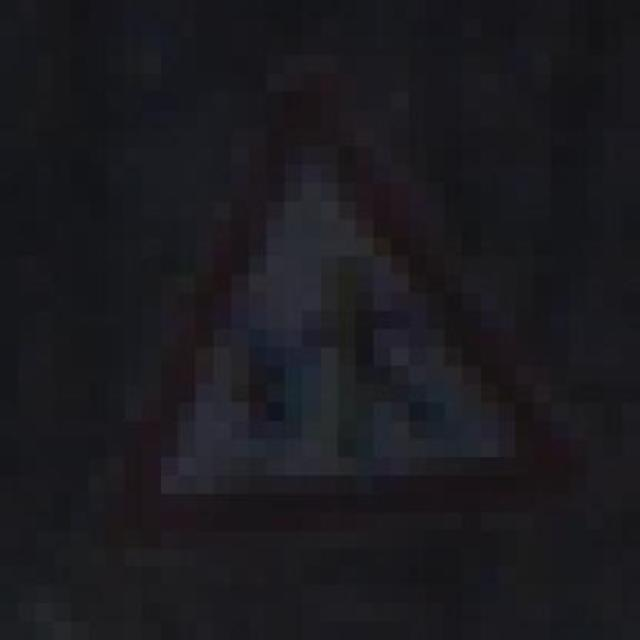Beware of children: (71, 73, 587, 549)
